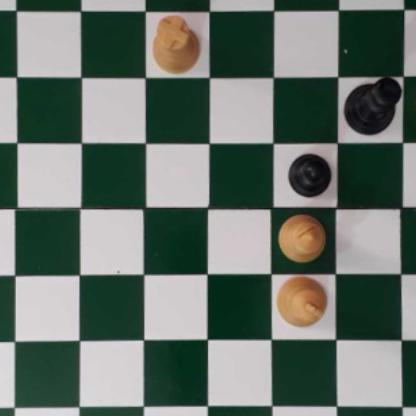black-king: (341, 75, 401, 134)
black-pawn: (288, 150, 331, 197)
white-bishop: (278, 212, 326, 262)
white-king: (273, 273, 328, 328)
white-pawn: (415, 78, 416, 125)
white-rook: (151, 16, 200, 74)
